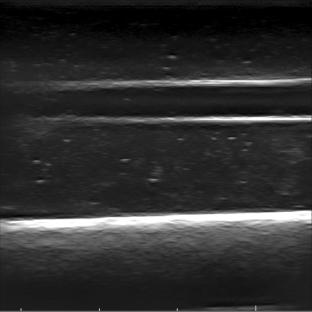vessel: (41, 77, 308, 125)
